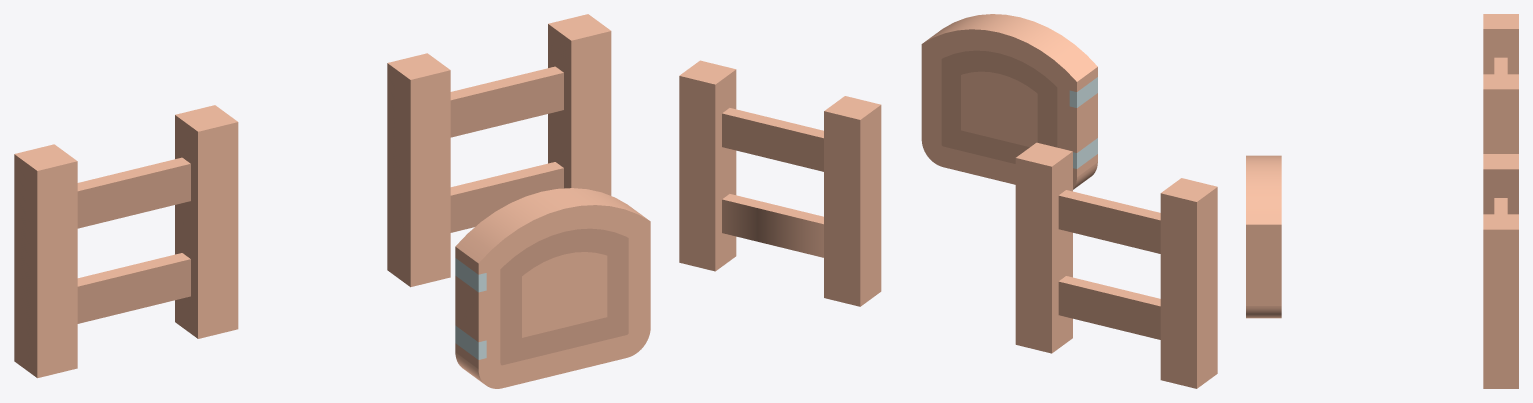
File: fence_gate.glb
3 views of the same model, side by side, from view 1: azimuth 30°, elevation 25°; view 2: azimuth 150°, elevation 25°; view 3: azimuth 270°, elevation 25° (orthographic). The views are drawn at different scales.
Parts seen in each view (by area): view 1: fence_gate, gate; view 2: fence_gate, gate; view 3: fence_gate, gate.
Boxes of the visible parts, x1,y1,x2,y2 form: fence_gate: (14, 14, 611, 378); gate: (455, 188, 650, 388); fence_gate: (679, 60, 1217, 388); gate: (921, 14, 1097, 189); fence_gate: (1483, 14, 1518, 388); gate: (1246, 155, 1281, 318).
Size of the model in its own units: 1 by 0.345 by 0.535.
